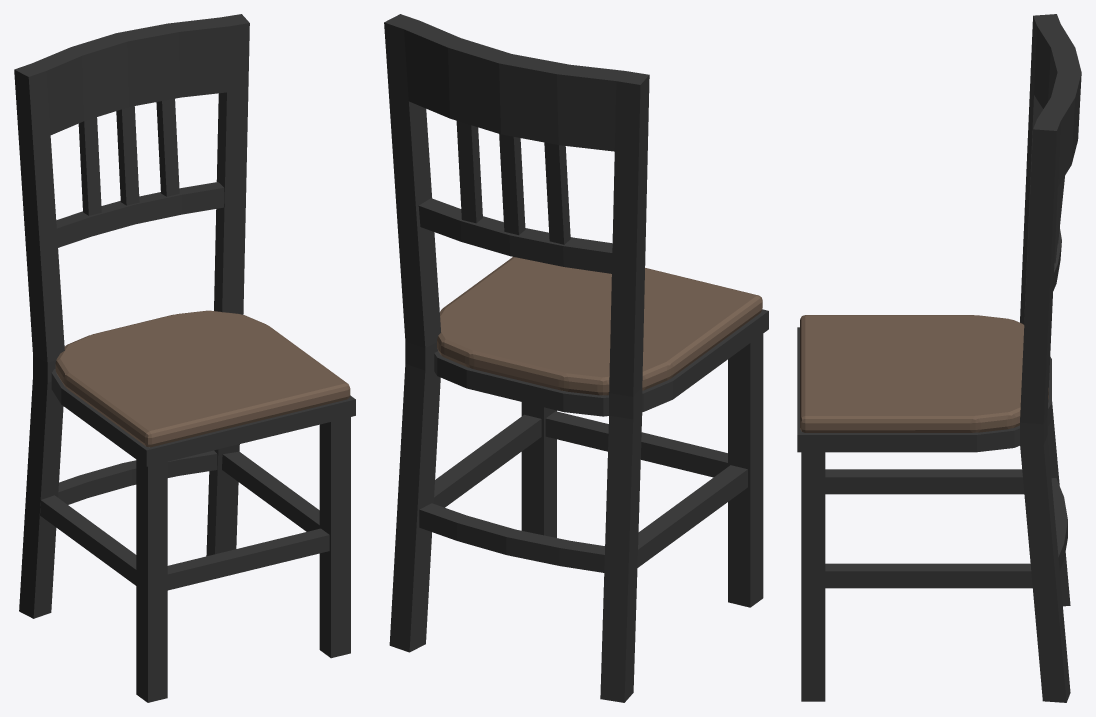
The model's file is SM_Props_Cafe_04.fbx.
The picture shows the model from 3 angles, left to right: view 1: azimuth 30°, elevation 25°; view 2: azimuth 150°, elevation 25°; view 3: azimuth 270°, elevation 25°; orthographic projection. The views are drawn at different scales.
Parts seen in each view (by area): view 1: SM_Props_Cafe_04; view 2: SM_Props_Cafe_04; view 3: SM_Props_Cafe_04.
Boxes of the visible parts, x1,y1,x2,y2 form: SM_Props_Cafe_04: [14, 14, 355, 702]; SM_Props_Cafe_04: [384, 14, 768, 702]; SM_Props_Cafe_04: [797, 14, 1081, 702].
Bounding box in the file's own units: 0.4351 × 1 × 0.4467.
